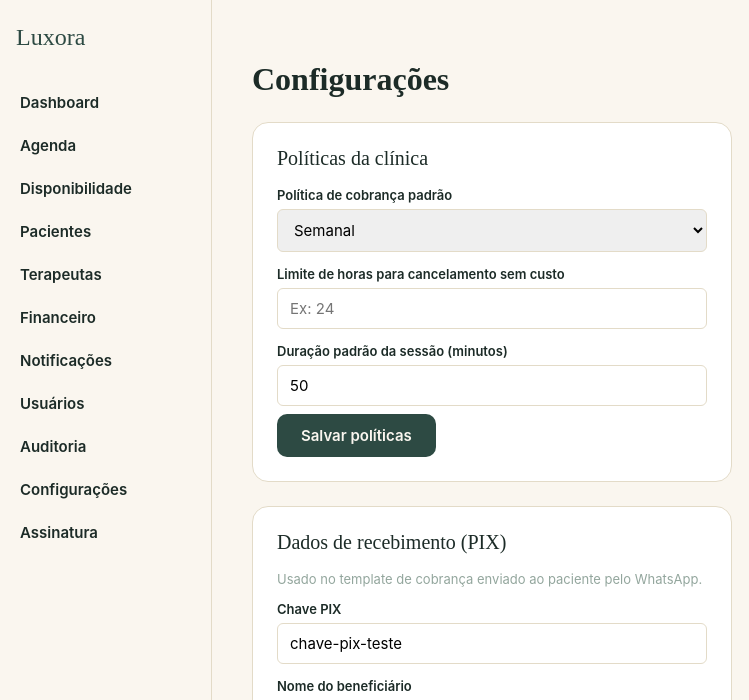
Test: ConfiguracoesPage — formulários › limite de cancelamento em branco não é enviado como zero
This screenshot has width=749, height=700.
Check: the 1st field showing "chave-pix-teste" is shown, box [277,623,707,664]
Check: the number field with placeholder "Ex: 24" is not empty, box [277,288,707,329]
Click the button "Salvar políticas". click: (356, 436)
box: [277,414,436,457]
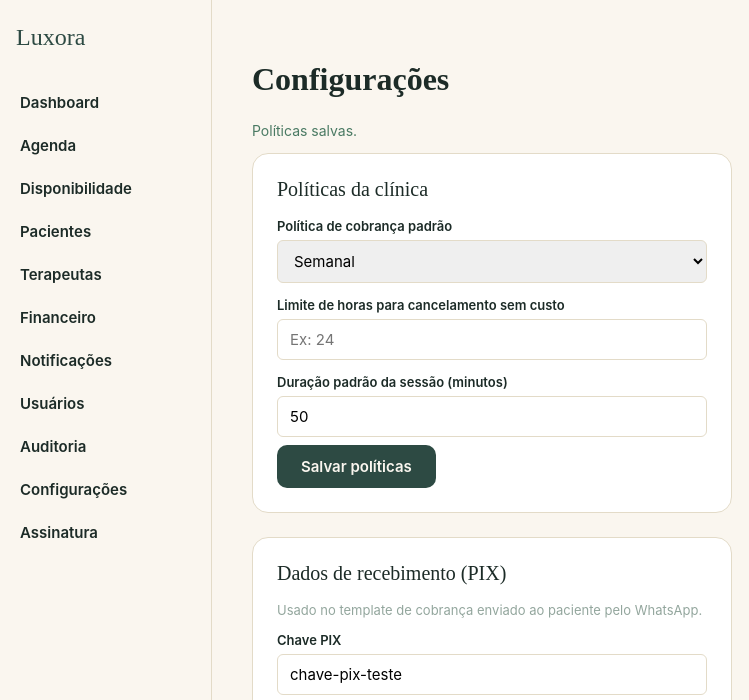
Check: the message "Políticas salvas." is shown, box [252,122,357,139]
